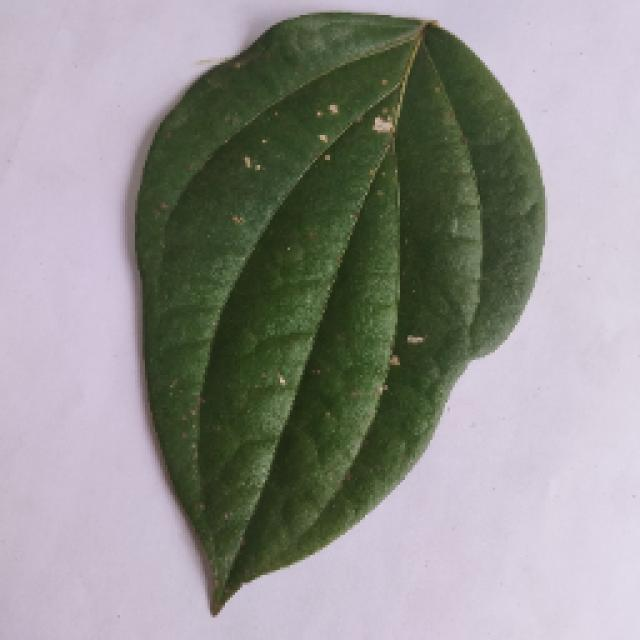pollu-disease: (135, 15, 543, 613)
